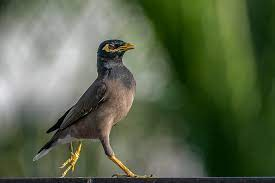Walking: (26, 30, 164, 181)
